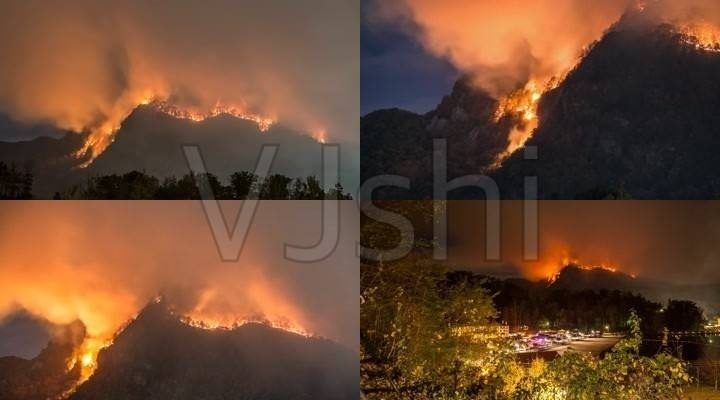fire: (489, 4, 635, 163), (181, 287, 315, 337), (133, 87, 280, 132), (69, 85, 144, 167), (522, 239, 636, 283)
